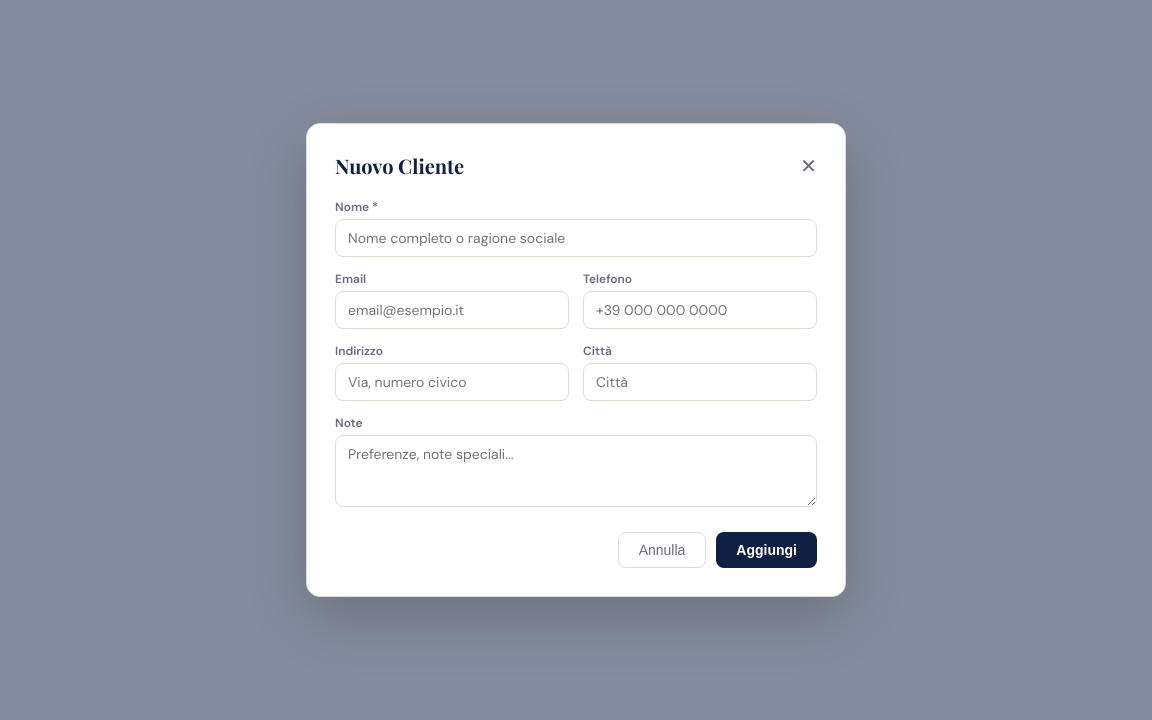
Test: ClienteModal — chi chiude è la modale, a esito noto › scrittura fallita: resta aperta, la scheda è ancora compilata
In the field labelled "Nome *": coordinates (576, 238) [335, 219, 817, 257], type "Famiglia Rossi"
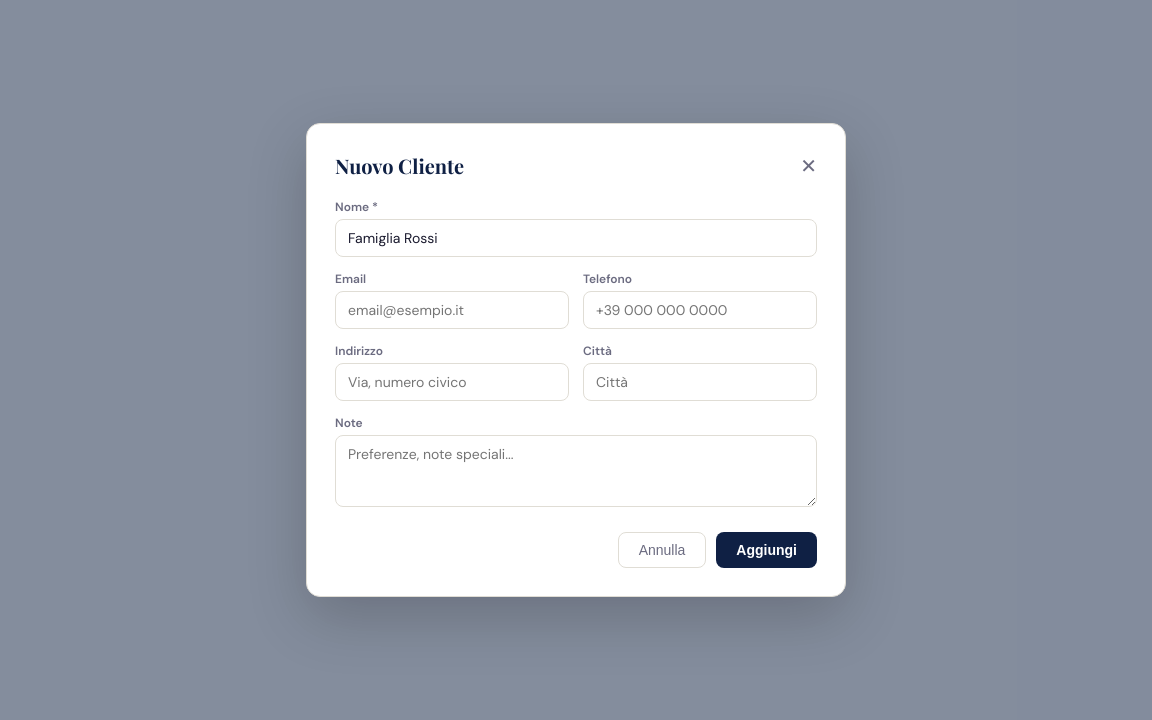
In the field with placeholder "+39 000 000 0000": coordinates (700, 310) [583, 291, 817, 329], type "3331234567"
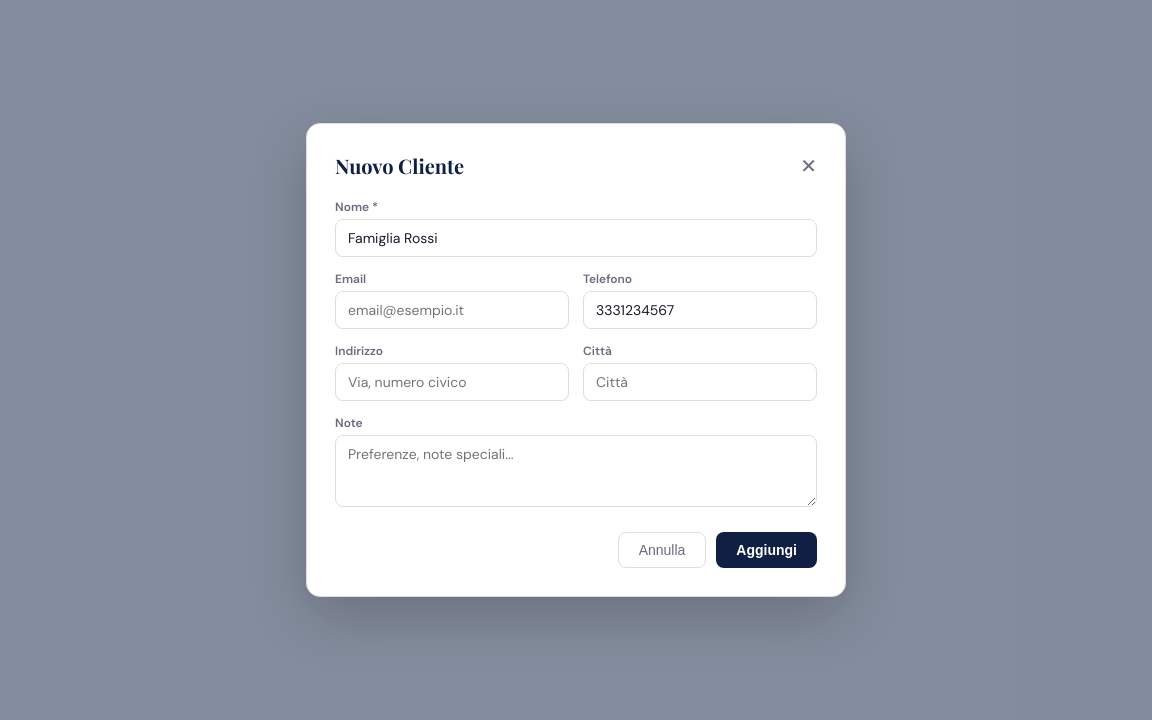
Click the button "Aggiungi": coordinates (767, 550) [716, 532, 817, 568]
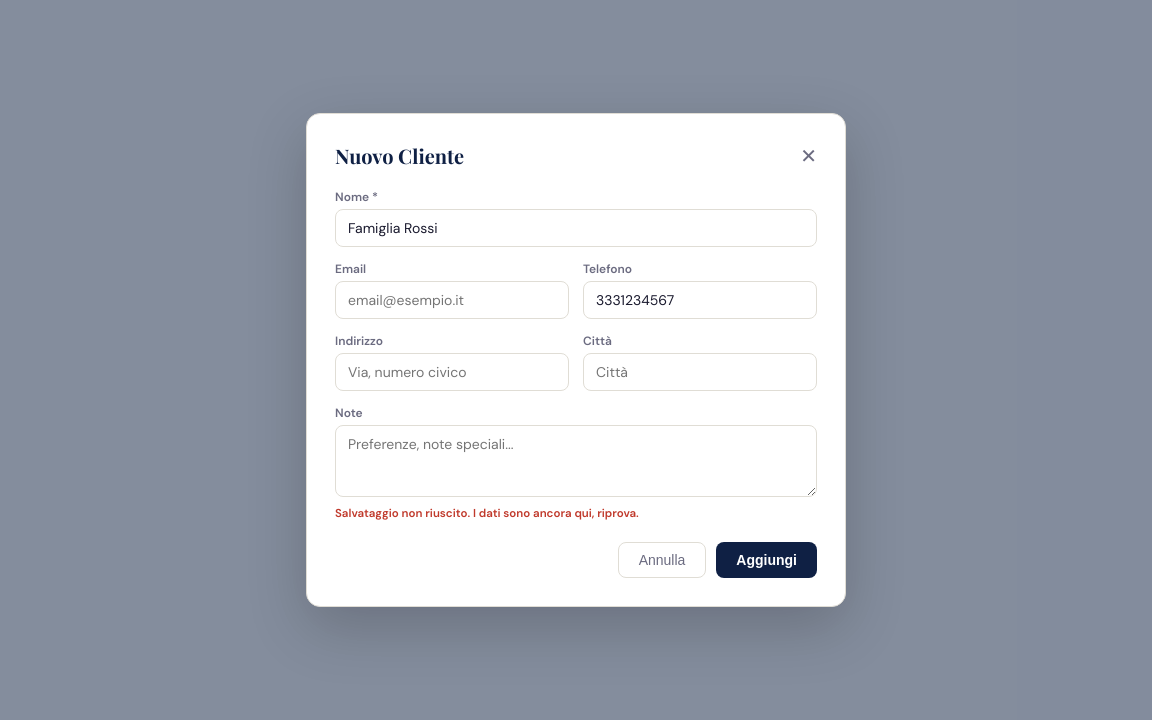
Check: the text "Salvataggio non riuscito. I dati sono ancora qui, riprova." is shown, box [335, 506, 639, 521]
